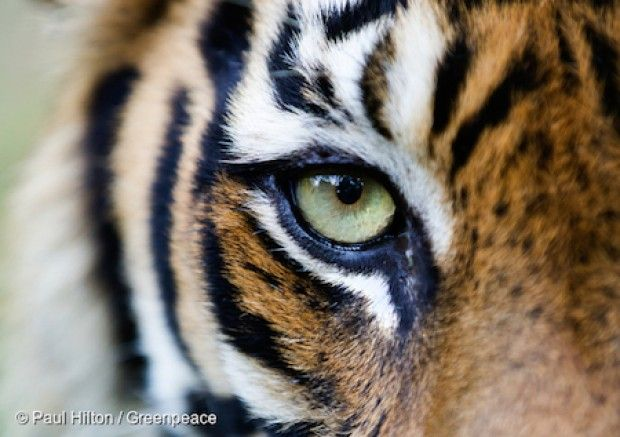Tigrew: (33, 17, 608, 423)
